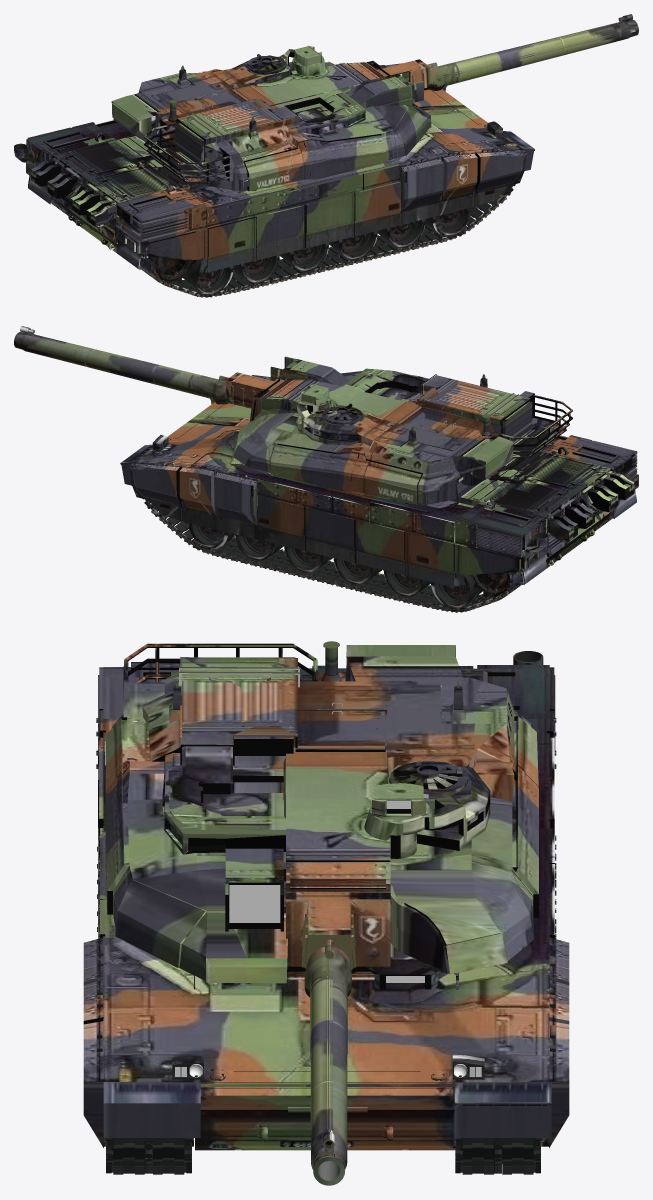
Rendered from char_leclerc_andertan.glb.
The picture shows the model from 3 angles, top to bottom: view 1: azimuth 30°, elevation 25°; view 2: azimuth 150°, elevation 25°; view 3: azimuth 270°, elevation 25°; orthographic projection. The views are drawn at different scales.
Parts seen in each view (by area): view 1: tank body, turret, Cylinder.086; view 2: tank body, turret, Cylinder.086; view 3: turret, tank body, Cylinder.086.
Boxes of the visible parts, x1=… form: tank body: x1=14, y1=63, x2=534, y2=297; turret: x1=111, y1=45, x2=431, y2=191; Cylinder.086: x1=383, y1=14, x2=638, y2=90; tank body: x1=120, y1=375, x2=638, y2=612; turret: x1=232, y1=356, x2=572, y2=504; Cylinder.086: x1=14, y1=326, x2=273, y2=408; turret: x1=104, y1=641, x2=538, y2=983; tank body: x1=83, y1=651, x2=569, y2=1174; Cylinder.086: x1=301, y1=899, x2=356, y2=1185.
Bounding box in the file's own units: 6.1 × 1.58 × 2.24.
Materials: 23 (11 with a texture image).
